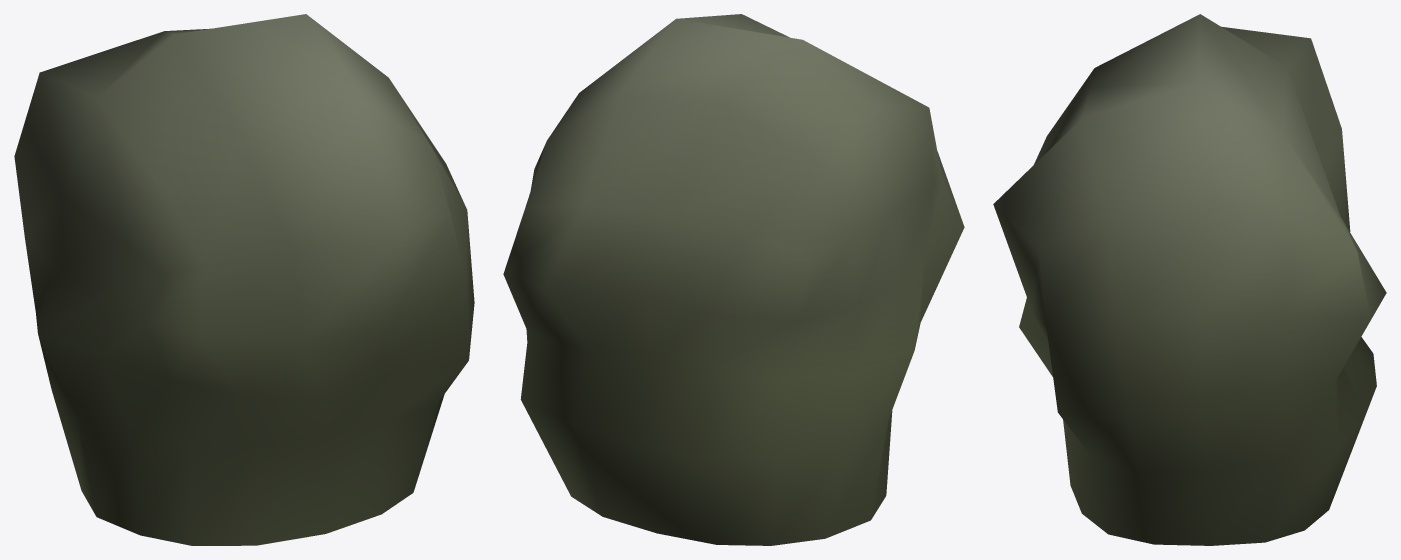
File: WE02_Brush9.fbx
3 renders of one model, left to right at view 1: azimuth 30°, elevation 25°; view 2: azimuth 150°, elevation 25°; view 3: azimuth 270°, elevation 25°, orthographic. The views are drawn at different scales.
Parts seen in each view (by area): view 1: WE02_Brush9; view 2: WE02_Brush9; view 3: WE02_Brush9.
Boxes of the visible parts, x1,y1,x2,y2 form: WE02_Brush9: (14, 14, 474, 545); WE02_Brush9: (503, 14, 964, 545); WE02_Brush9: (993, 14, 1386, 545).
Size of the model in its own units: 6.52 by 7.33 by 6.01.
